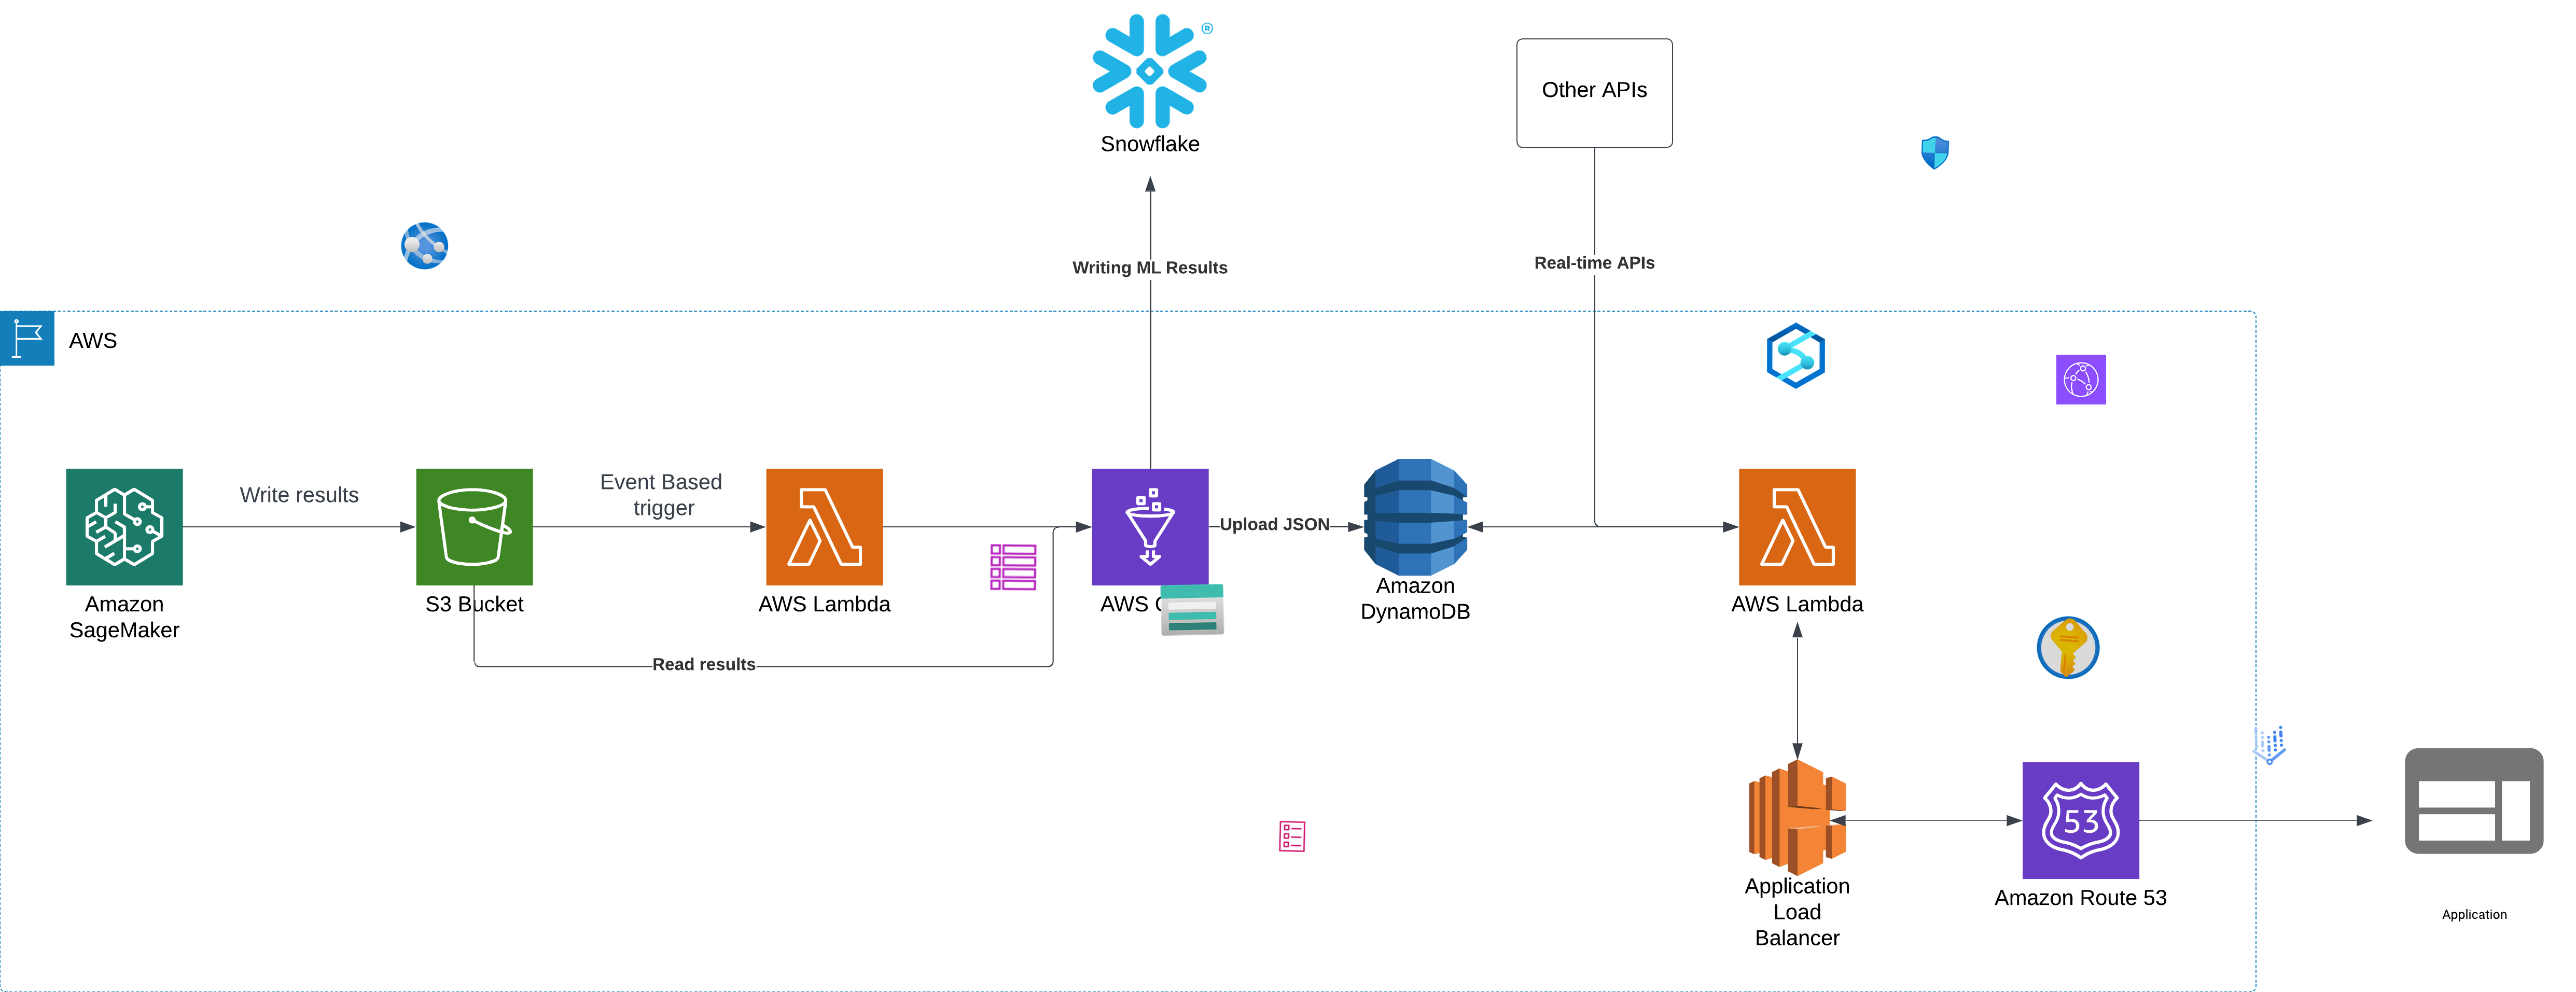aws_amazon_cloudfront: (2055, 355, 2106, 406)
aws_cloudformation_template: (1275, 820, 1309, 854)
aws_dynamodb_table: (987, 542, 1038, 593)
azure_app_services: (399, 220, 450, 271)
azure_key_vaults: (2032, 613, 2104, 683)
azure_network_security_groups: (1917, 135, 1953, 171)
azure_storage_accounts: (1158, 575, 1227, 644)
azure_synapse_analytics: (1763, 322, 1830, 389)
gcp_vertex_ai: (2242, 719, 2295, 772)
